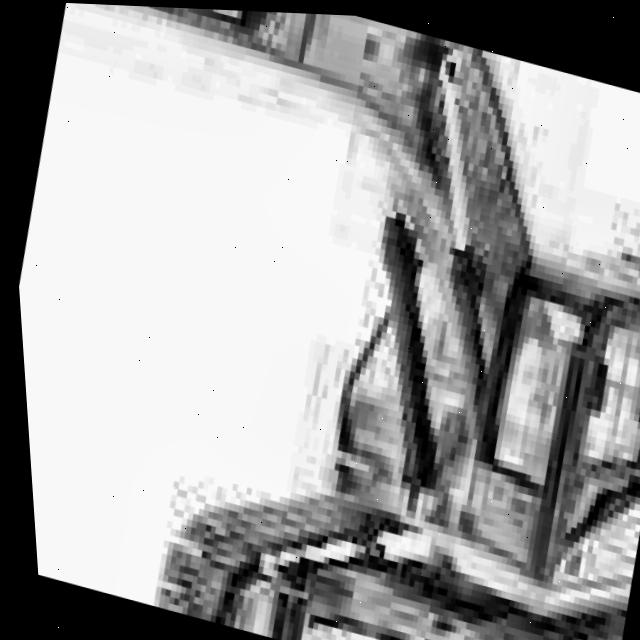excavator: (127, 102, 640, 640)
